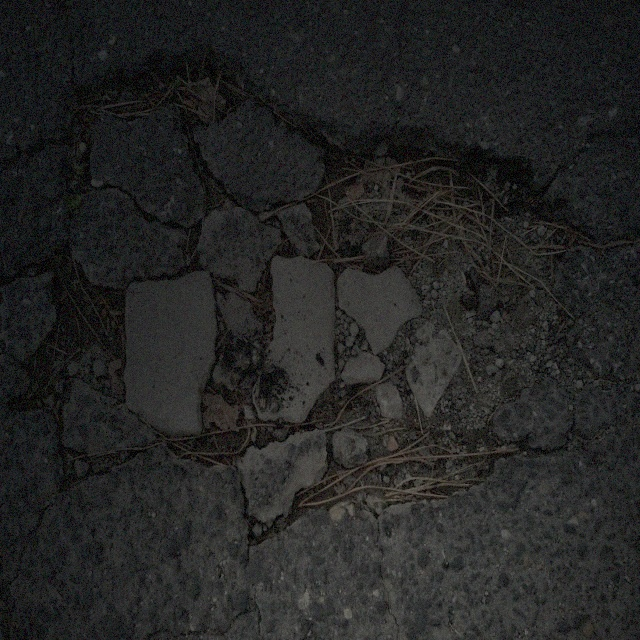pothole: (60, 38, 572, 538)
